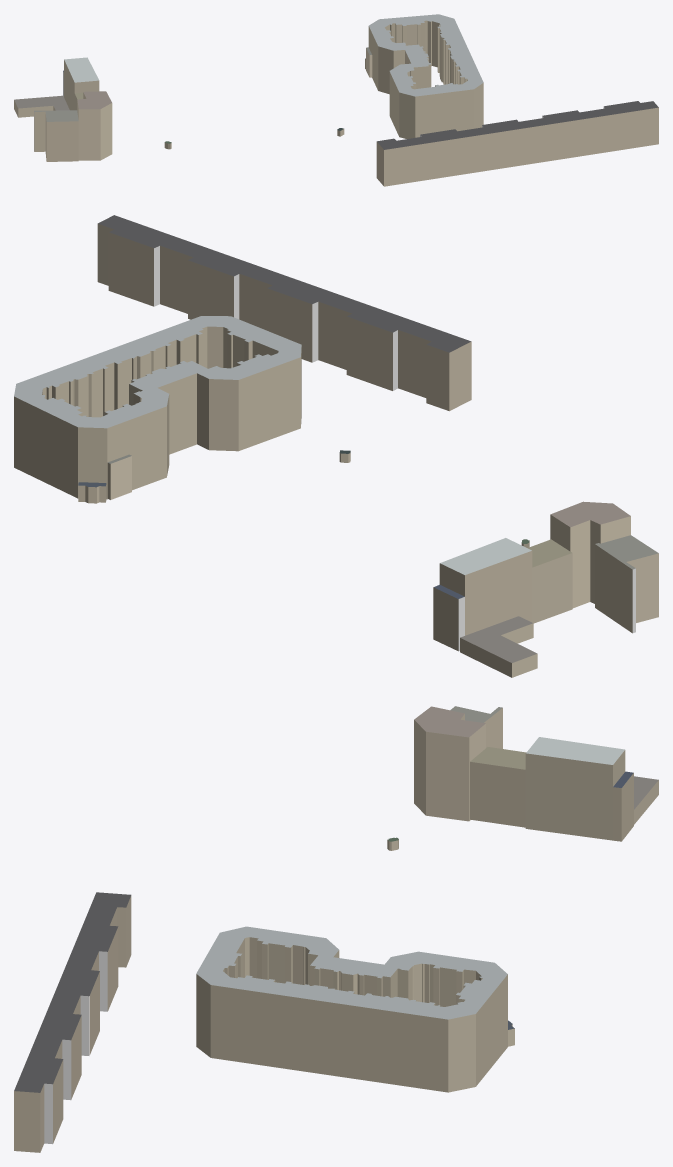
The picture shows the model from 3 angles, top to bottom: view 1: azimuth 30°, elevation 25°; view 2: azimuth 150°, elevation 25°; view 3: azimuth 270°, elevation 25°; orthographic projection. The views are drawn at different scales.
Parts seen in each view (by area): view 1: tuile; view 2: tuile; view 3: tuile.
Boxes of the visible parts, box(x1,y1,x2,y2) form: tuile: box(14, 14, 658, 186); tuile: box(14, 215, 658, 677); tuile: box(14, 706, 658, 1152).
Bounding box in the file's own units: 299 × 30.95 × 213.
